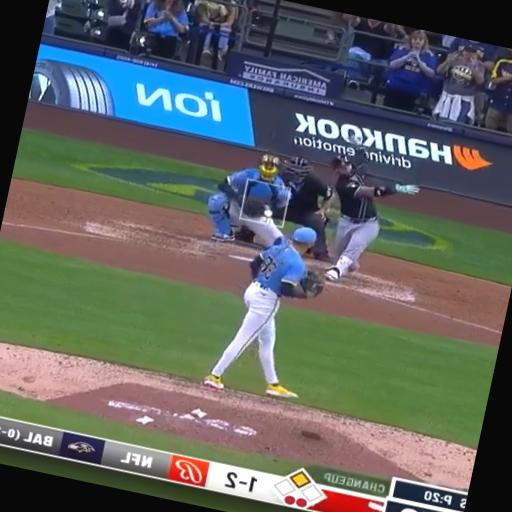bat: (346, 135, 368, 166)
